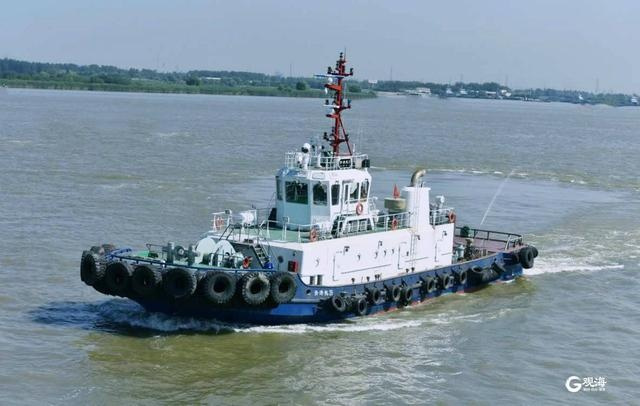otherboat: (79, 63, 537, 318)
